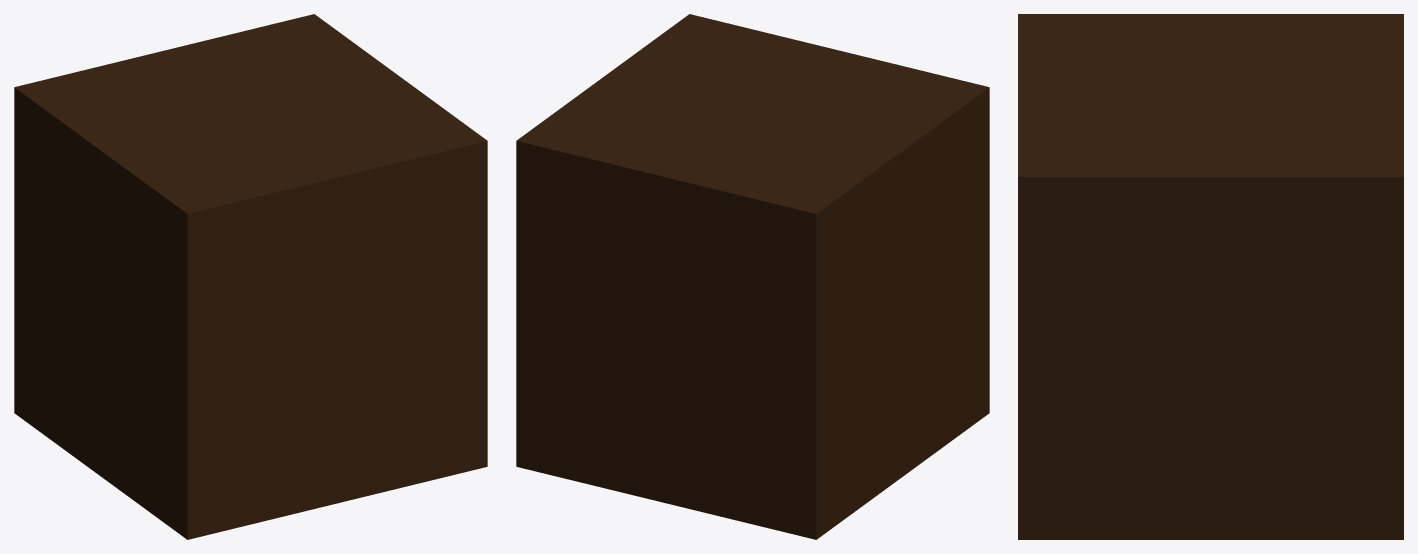
The model's file is room3 (labirint)1.fbx.
3 views of the same model, side by side, from view 1: azimuth 30°, elevation 25°; view 2: azimuth 150°, elevation 25°; view 3: azimuth 270°, elevation 25° (orthographic). The views are drawn at different scales.
Parts seen in each view (by area): view 1: Cube.040; view 2: Cube.040; view 3: Cube.040.
Part boxes in pixels (<box>): Cube.040: <box>14,14,487,539</box>; Cube.040: <box>516,14,989,539</box>; Cube.040: <box>1018,14,1403,539</box>.
Bounding box in the file's own units: 2500 × 2594 × 2500.
